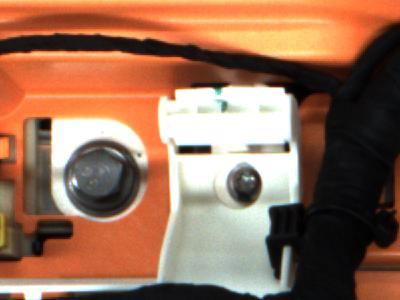nut_b: (62, 137, 148, 218)
